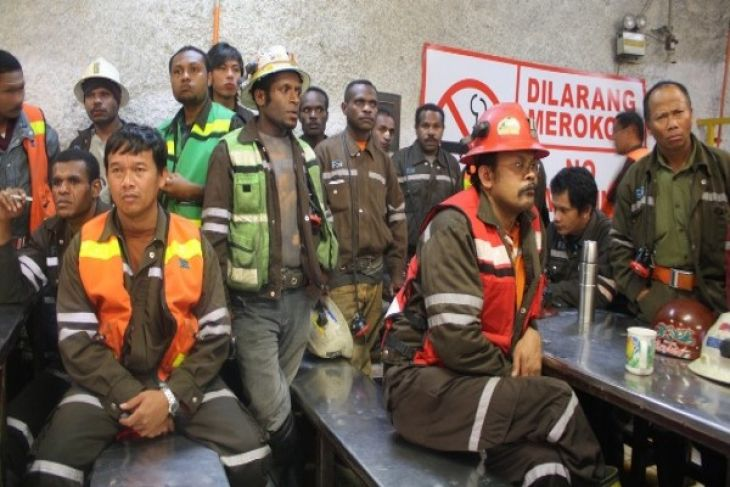No Safety Helmet: (101, 121, 167, 221), (642, 76, 699, 160), (46, 146, 104, 223), (547, 162, 599, 237), (162, 45, 215, 108), (204, 40, 244, 102), (341, 75, 378, 141), (1, 44, 30, 126), (411, 102, 449, 158), (609, 109, 644, 158), (301, 83, 329, 139), (375, 106, 398, 154)
Safety Helmet: (468, 99, 547, 225), (243, 39, 309, 132), (70, 53, 133, 129)
